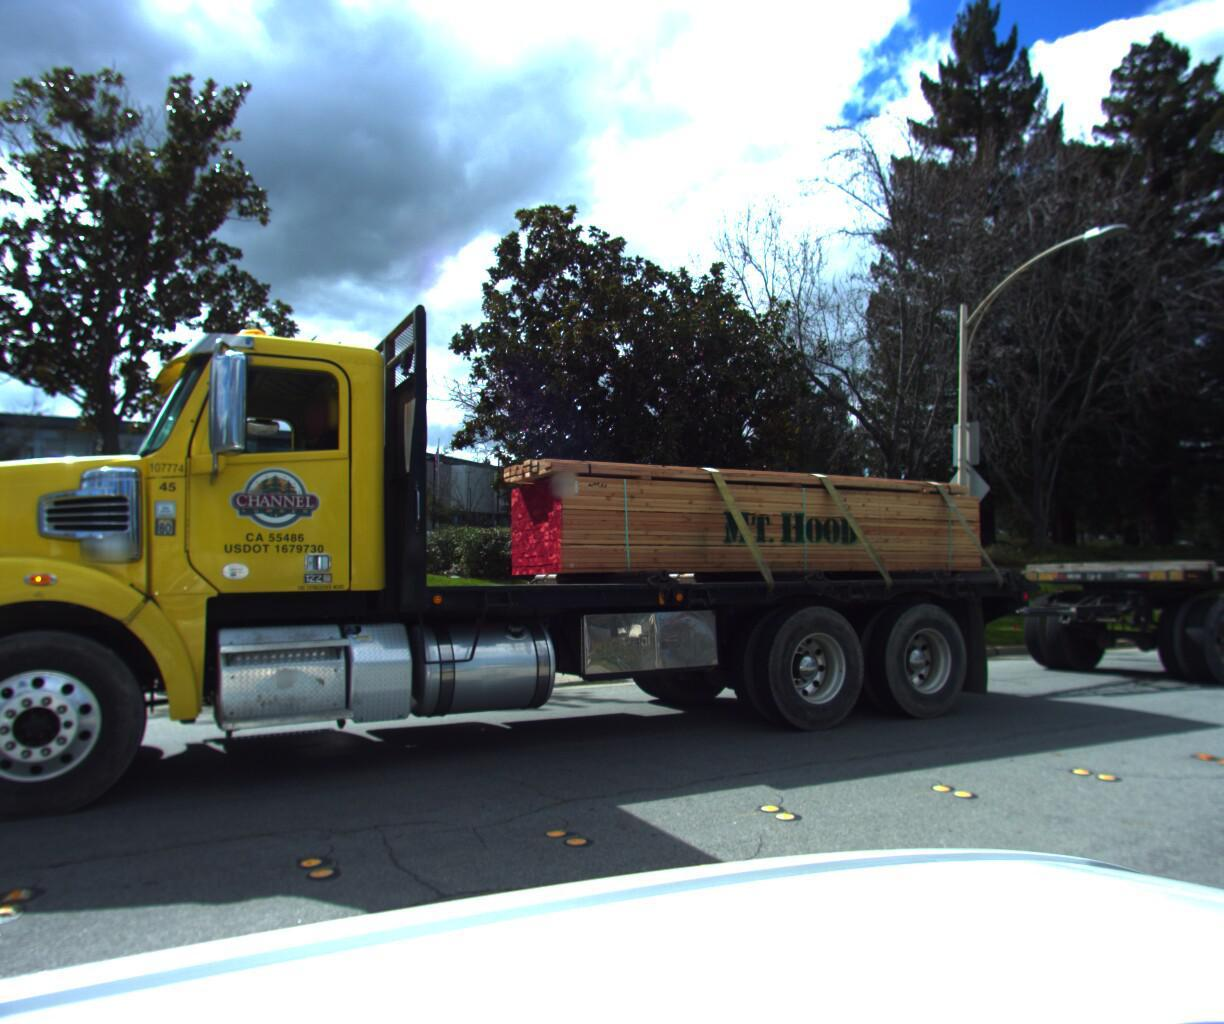truck: (0, 105, 1224, 1023)
